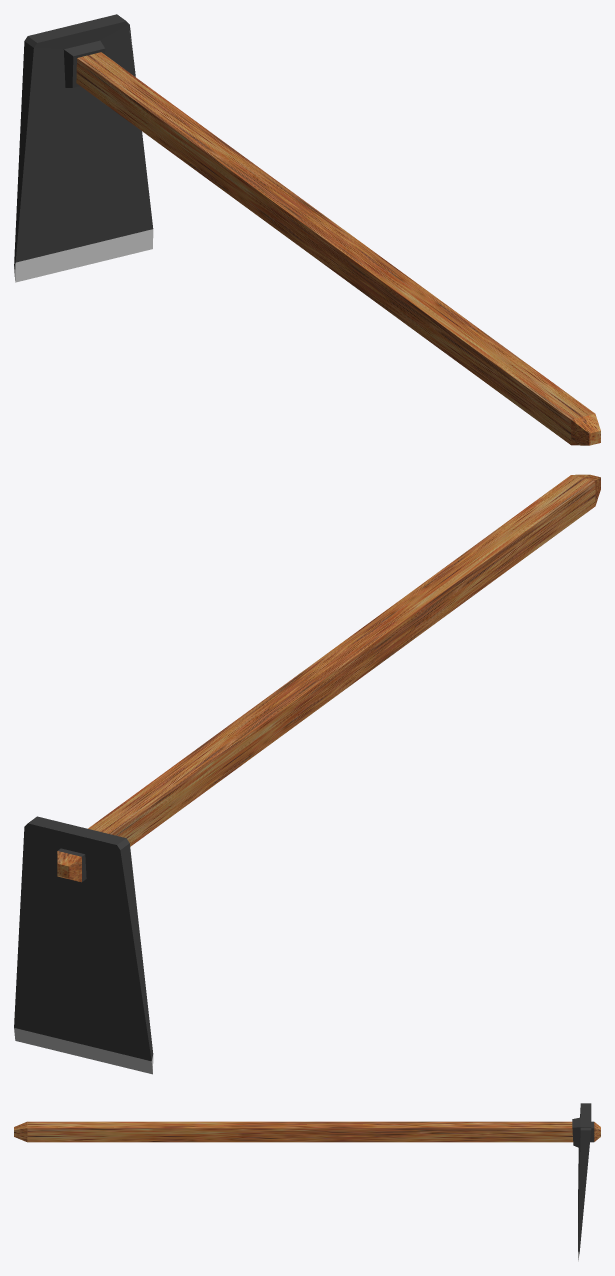
File: Hoe.fbx
3 views of the same model, one above another, from view 1: azimuth 30°, elevation 25°; view 2: azimuth 150°, elevation 25°; view 3: azimuth 270°, elevation 25° (orthographic). The views are drawn at different scales.
Parts seen in each view (by area): view 1: Hilt; view 2: Hilt; view 3: Hilt.
Boxes of the visible parts, x1,y1,x2,y2 form: Hilt: (14, 14, 600, 445); Hilt: (14, 474, 600, 1074); Hilt: (14, 1103, 600, 1261).
Size of the model in its own units: 64.45 by 104 by 431.
